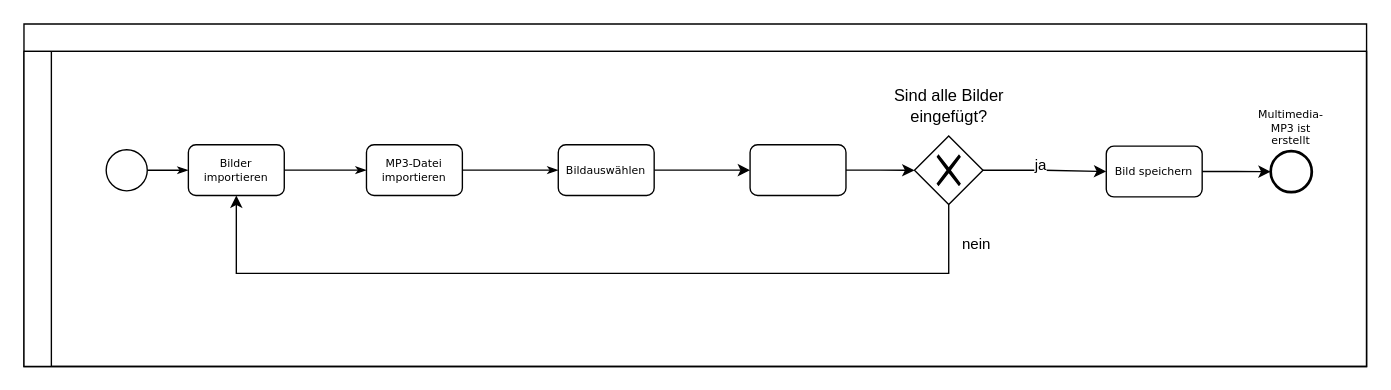
Some shapes in this 1391 by 390 pixel diagram are drawn without their labels. Each missing label, with the centre of its shape:
Bild einbauen: (797,169)
Programm ist gestartet: (126,169)
